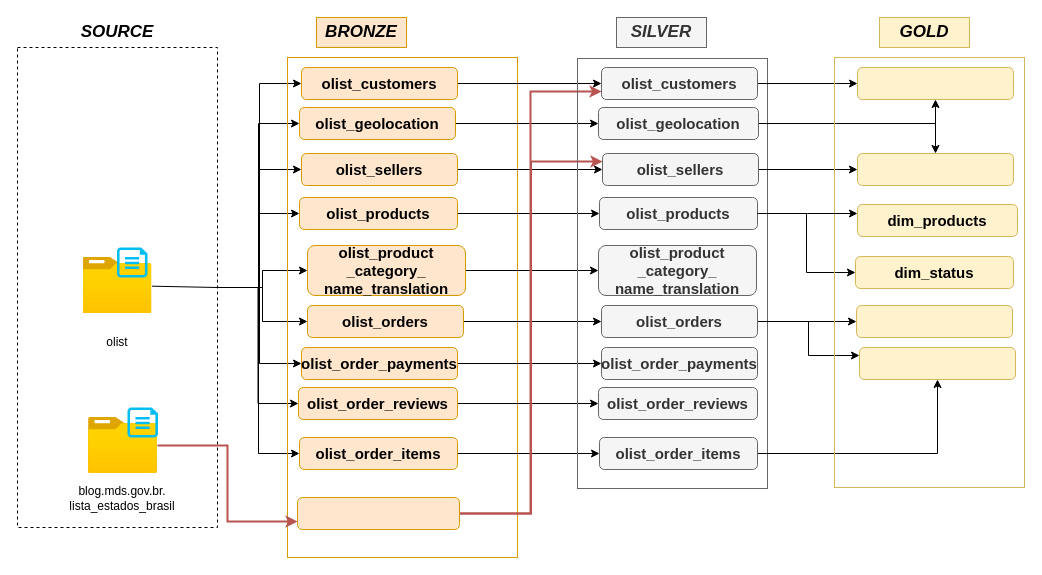
Image size: 1042x575. Some labels were removed from this diagram. Each missing label, with the centre of its shape:
"blog_mds_gov_br_ lista_estados_brasil" goes at (x=378, y=513).
"dim_calendar" goes at (x=934, y=321).
"dim_customers" goes at (x=935, y=83).
"dim_sellers" goes at (x=935, y=169).
"fact_sales" goes at (x=937, y=363).
